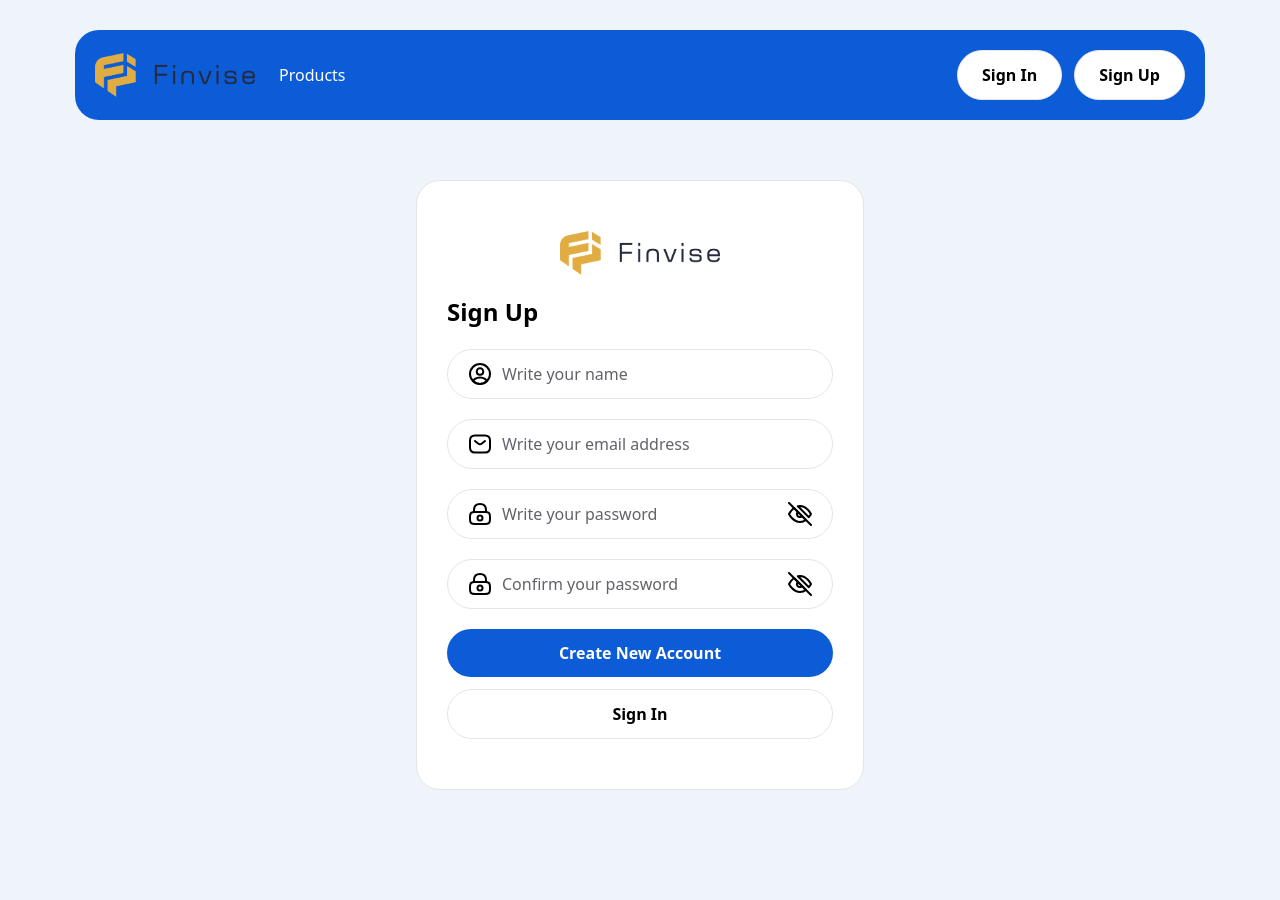
Test: Register Page › shows error when submitting empty form
Click the button "Create New Account": (640, 653) [447,629,833,677]
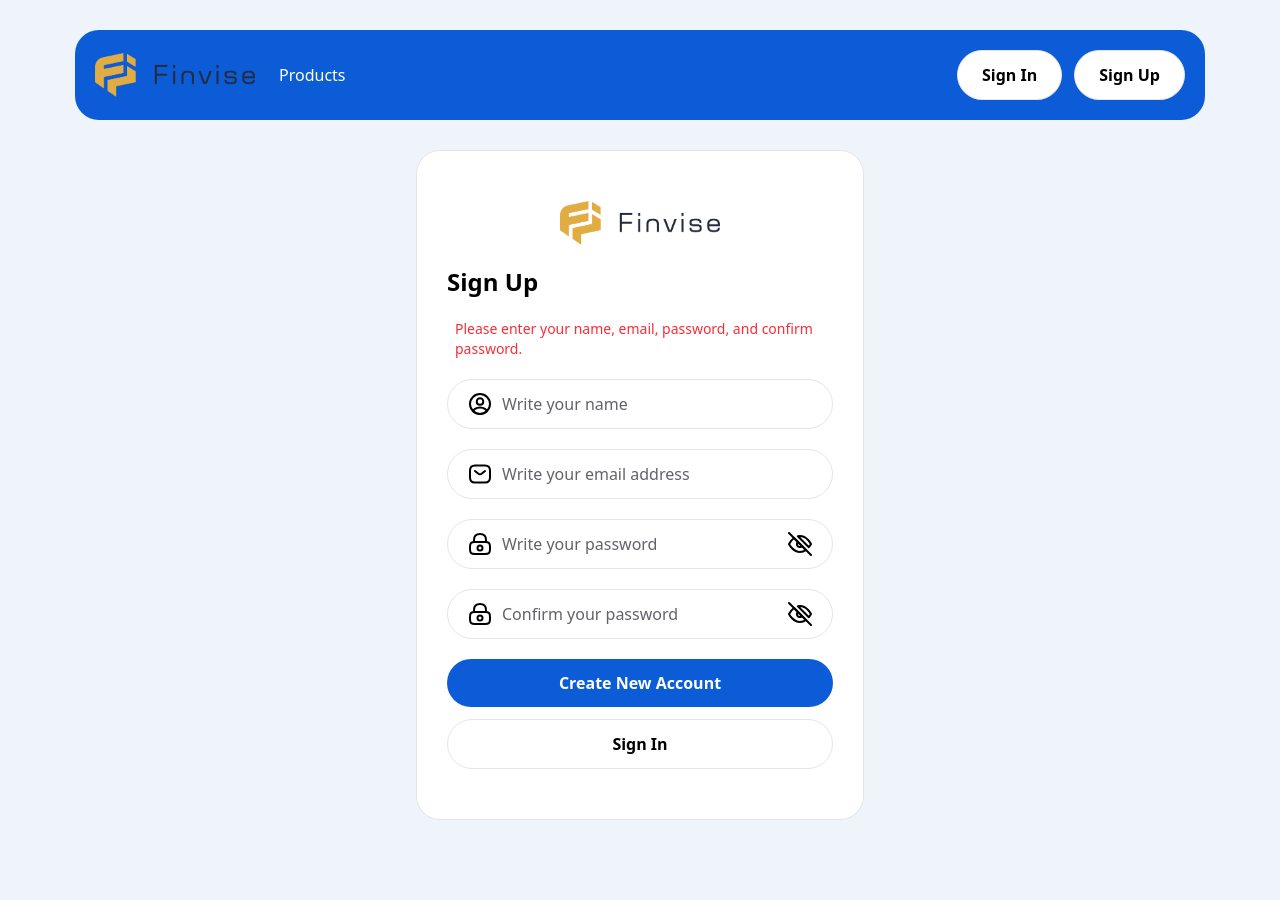
expect the text "Please enter your name, email, password" is shown: met, box [455,319,813,358]
